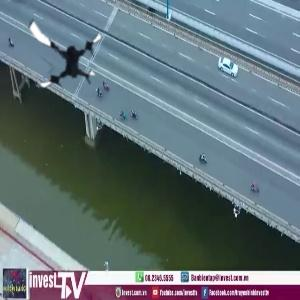drone: (20, 7, 110, 97)
